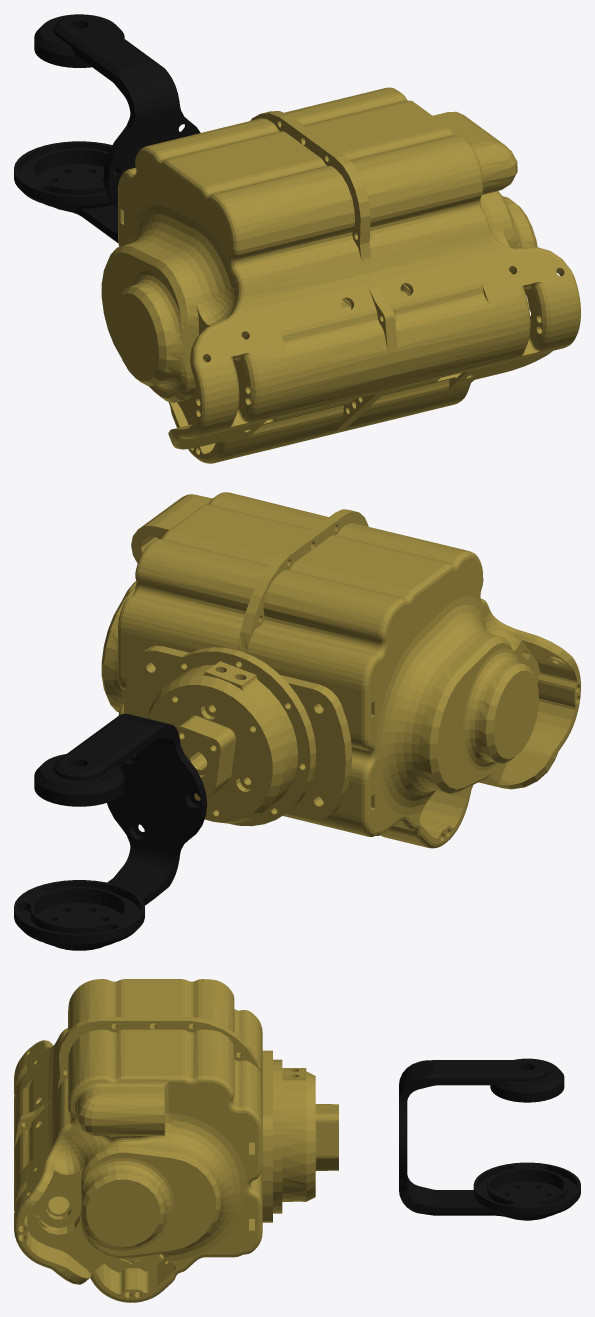
Rendered from endEffector_left.obj.
The picture shows the model from 3 angles, top to bottom: view 1: azimuth 30°, elevation 25°; view 2: azimuth 150°, elevation 25°; view 3: azimuth 270°, elevation 25°; orthographic projection. The views are drawn at different scales.
Visible parts, largest first — view 1: palm_palm.001, wrist_yaw_right.003, wrist_yaw_right_flange.003; view 2: palm_palm.001, wrist_yaw_right.003, wrist_yaw_right_flange.003; view 3: palm_palm.001, wrist_yaw_right.003, wrist_yaw_right_flange.003.
Boxes of the visible parts, box(x1,y1,x2,y2) form: palm_palm.001: box(101, 87, 580, 463); wrist_yaw_right.003: box(34, 14, 200, 243); wrist_yaw_right_flange.003: box(14, 141, 119, 210); palm_palm.001: box(101, 492, 580, 848); wrist_yaw_right.003: box(34, 713, 207, 950); wrist_yaw_right_flange.003: box(14, 880, 144, 949); palm_palm.001: box(14, 979, 338, 1302); wrist_yaw_right.003: box(399, 1058, 564, 1220); wrist_yaw_right_flange.003: box(473, 1162, 580, 1218).
Size of the model in its own units: 0.154 by 0.1113 by 0.2431.
